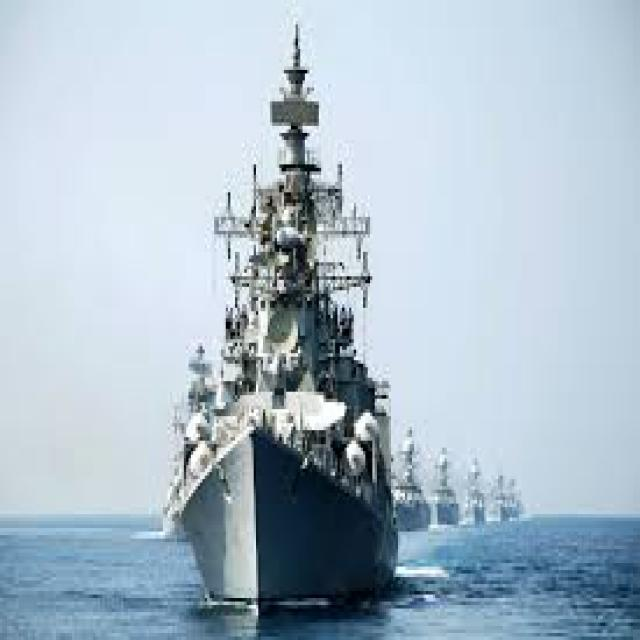navalvessels: (158, 30, 412, 630), (388, 414, 418, 554), (457, 463, 491, 542), (433, 452, 455, 532)
